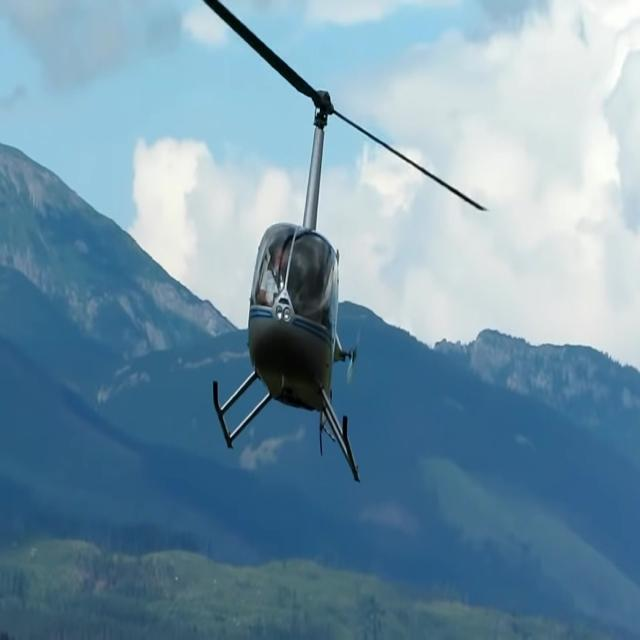CIV_HELO: (210, 88, 363, 491)
